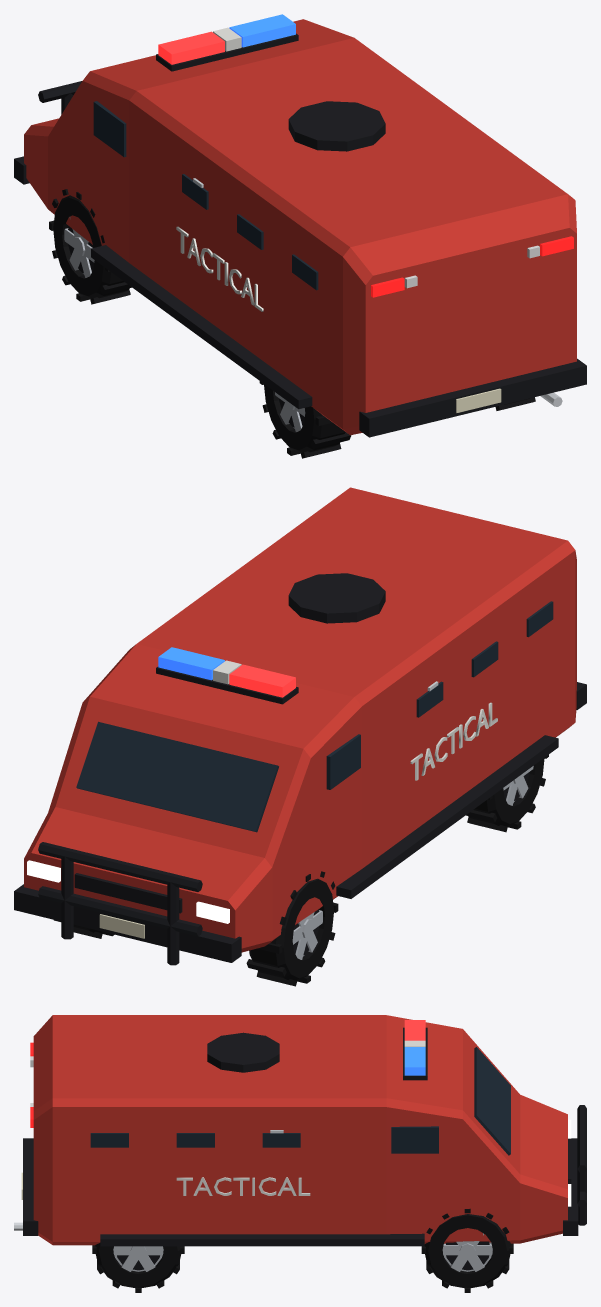
The model's file is swat.glb.
The picture shows the model from 3 angles, top to bottom: view 1: azimuth 30°, elevation 25°; view 2: azimuth 150°, elevation 25°; view 3: azimuth 270°, elevation 25°; orthographic projection. The views are drawn at different scales.
Visible parts, largest first — view 1: swat_Body, swat_Top, swat_Wheel_FL, swat_Lightbar, swat_Wheel_RL, swat_TxtL; view 2: swat_Body, swat_Top, swat_Wheel_FL, swat_Lightbar, swat_Wheel_RL, swat_TxtL; view 3: swat_Body, swat_Top, swat_Wheel_FR, swat_Wheel_RR, swat_Lightbar, swat_TxtR.
Part boxes in pixels (left/top/right/bottom): swat_Body: left=24, top=19, right=576, bottom=435; swat_Top: left=14, top=81, right=586, bottom=437; swat_Wheel_FL: left=49, top=189, right=131, bottom=304; swat_Lightbar: left=156, top=14, right=298, bottom=71; swat_Wheel_RL: left=259, top=381, right=351, bottom=458; swat_TxtL: left=176, top=226, right=263, bottom=311; swat_Body: left=24, top=487, right=576, bottom=952; swat_Top: left=14, top=573, right=586, bottom=965; swat_Wheel_FL: left=246, top=871, right=338, bottom=986; swat_Lightbar: left=156, top=647, right=298, bottom=704; swat_Wheel_RL: left=466, top=754, right=548, bottom=832; swat_TxtL: left=410, top=702, right=497, bottom=780; swat_Body: left=33, top=1015, right=567, bottom=1245; swat_Top: left=14, top=1032, right=586, bottom=1246; swat_Wheel_FR: left=421, top=1208, right=513, bottom=1292; swat_Wheel_RR: left=92, top=1243, right=184, bottom=1292; swat_Lightbar: left=403, top=1020, right=427, bottom=1080; swat_TxtR: left=176, top=1177, right=310, bottom=1195.
Bounding box in the file's own units: 2.46 × 2.37 × 6.01.
